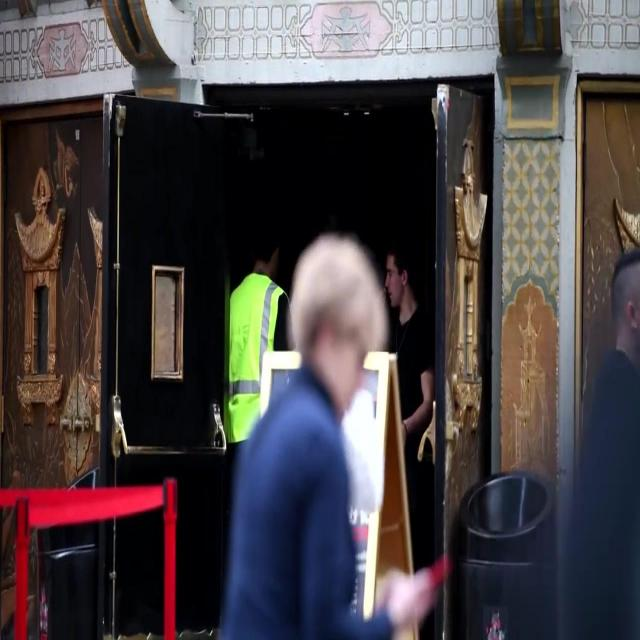Reflective-Jacket: (209, 266, 299, 458)
